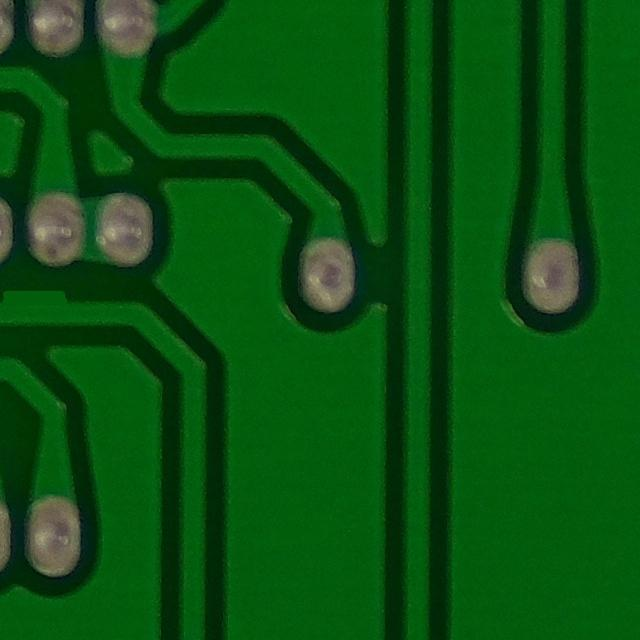spur: (0, 275, 93, 323)
